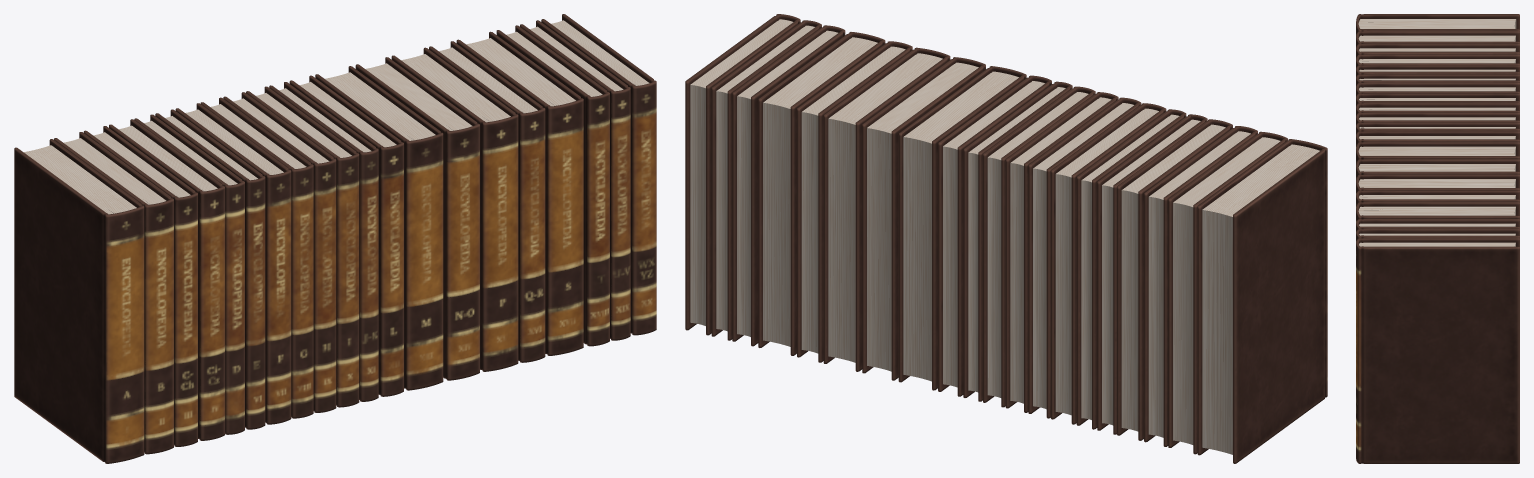
File: encyclopedia_set.glb
The picture shows the model from 3 angles, left to right: view 1: azimuth 30°, elevation 25°; view 2: azimuth 150°, elevation 25°; view 3: azimuth 270°, elevation 25°; orthographic projection. The views are drawn at different scales.
Visible parts, largest first — view 1: book_encyclopedia_set_01_book01, book_encyclopedia_set_01_book13, book_encyclopedia_set_01_book15, book_encyclopedia_set_01_book17, book_encyclopedia_set_01_book14, book_encyclopedia_set_01_book02, book_encyclopedia_set_01_book16, book_encyclopedia_set_01_book04, book_encyclopedia_set_01_book18, book_encyclopedia_set_01_book20, book_encyclopedia_set_01_book07, book_encyclopedia_set_01_book12 (+8 smaller); view 2: book_encyclopedia_set_01_book01, book_encyclopedia_set_01_book13, book_encyclopedia_set_01_book15, book_encyclopedia_set_01_book17, book_encyclopedia_set_01_book14, book_encyclopedia_set_01_book02, book_encyclopedia_set_01_book04, book_encyclopedia_set_01_book16, book_encyclopedia_set_01_book18, book_encyclopedia_set_01_book20, book_encyclopedia_set_01_book07, book_encyclopedia_set_01_book12 (+8 smaller); view 3: book_encyclopedia_set_01_book20, book_encyclopedia_set_01_book13, book_encyclopedia_set_01_book01, book_encyclopedia_set_01_book17, book_encyclopedia_set_01_book15, book_encyclopedia_set_01_book14, book_encyclopedia_set_01_book02, book_encyclopedia_set_01_book16, book_encyclopedia_set_01_book03, book_encyclopedia_set_01_book12, book_encyclopedia_set_01_book07, book_encyclopedia_set_01_book04 (+8 smaller).
Boxes of the visible parts, <box> form: book_encyclopedia_set_01_book01: <box>14,139,144,463</box>; book_encyclopedia_set_01_book13: <box>315,66,443,390</box>; book_encyclopedia_set_01_book15: <box>391,47,518,371</box>; book_encyclopedia_set_01_book17: <box>456,31,583,355</box>; book_encyclopedia_set_01_book14: <box>355,57,479,380</box>; book_encyclopedia_set_01_book02: <box>54,132,173,454</box>; book_encyclopedia_set_01_book16: <box>429,41,545,362</box>; book_encyclopedia_set_01_book04: <box>109,119,224,440</box>; book_encyclopedia_set_01_book18: <box>496,25,609,346</box>; book_encyclopedia_set_01_book20: <box>541,14,656,335</box>; book_encyclopedia_set_01_book07: <box>175,103,291,424</box>; book_encyclopedia_set_01_book12: <box>289,75,403,396</box>; book_encyclopedia_set_01_book01: <box>1197,139,1327,463</box>; book_encyclopedia_set_01_book13: <box>898,66,1026,390</box>; book_encyclopedia_set_01_book15: <box>823,47,950,371</box>; book_encyclopedia_set_01_book17: <box>758,32,885,355</box>; book_encyclopedia_set_01_book14: <box>862,57,985,380</box>; book_encyclopedia_set_01_book02: <box>1168,131,1287,454</box>; book_encyclopedia_set_01_book04: <box>1117,119,1232,440</box>; book_encyclopedia_set_01_book16: <box>797,41,912,362</box>; book_encyclopedia_set_01_book18: <box>732,25,845,346</box>; book_encyclopedia_set_01_book20: <box>685,14,800,335</box>; book_encyclopedia_set_01_book07: <box>1051,103,1166,424</box>; book_encyclopedia_set_01_book12: <box>938,75,1051,396</box>; book_encyclopedia_set_01_book20: <box>1356,238,1519,463</box>; book_encyclopedia_set_01_book13: <box>1356,142,1519,164</box>; book_encyclopedia_set_01_book01: <box>1356,14,1519,35</box>; book_encyclopedia_set_01_book17: <box>1356,202,1519,222</box>; book_encyclopedia_set_01_book15: <box>1356,174,1519,194</box>; book_encyclopedia_set_01_book14: <box>1356,159,1519,180</box>; book_encyclopedia_set_01_book02: <box>1356,30,1519,47</box>; book_encyclopedia_set_01_book16: <box>1356,190,1519,208</box>; book_encyclopedia_set_01_book03: <box>1356,43,1519,58</box>; book_encyclopedia_set_01_book12: <box>1356,131,1519,148</box>; book_encyclopedia_set_01_book07: <box>1356,82,1519,96</box>; book_encyclopedia_set_01_book04: <box>1356,54,1519,68</box>.
Size of the model in its own units: 0.5513 by 0.2374 by 0.1631.
2 materials, 2 textured.
